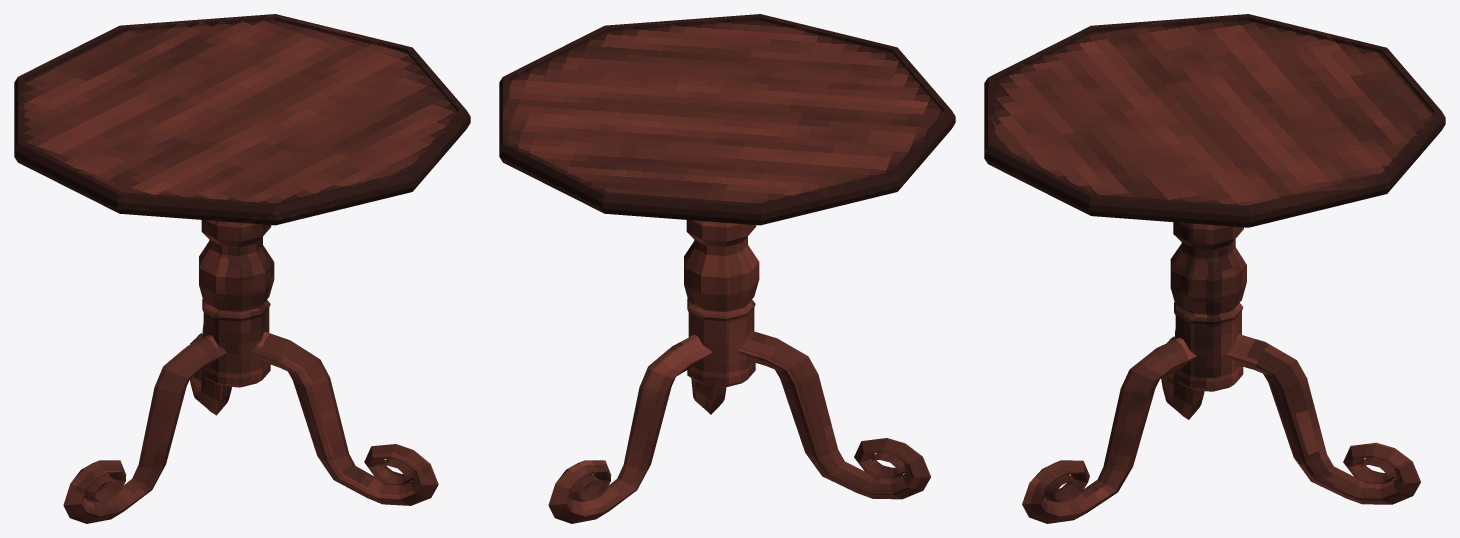
The model's file is E_Roundtable1.fbx.
3 views of the same model, side by side, from view 1: azimuth 30°, elevation 25°; view 2: azimuth 150°, elevation 25°; view 3: azimuth 270°, elevation 25° (orthographic).
Visible parts, largest first — view 1: FINISHED TABLE; view 2: FINISHED TABLE; view 3: FINISHED TABLE.
Boxes of the visible parts, x1,y1,x2,y2 form: FINISHED TABLE: [14, 14, 470, 523]; FINISHED TABLE: [499, 14, 955, 523]; FINISHED TABLE: [984, 14, 1445, 523].
Size of the model in its own units: 180 by 157 by 178.
